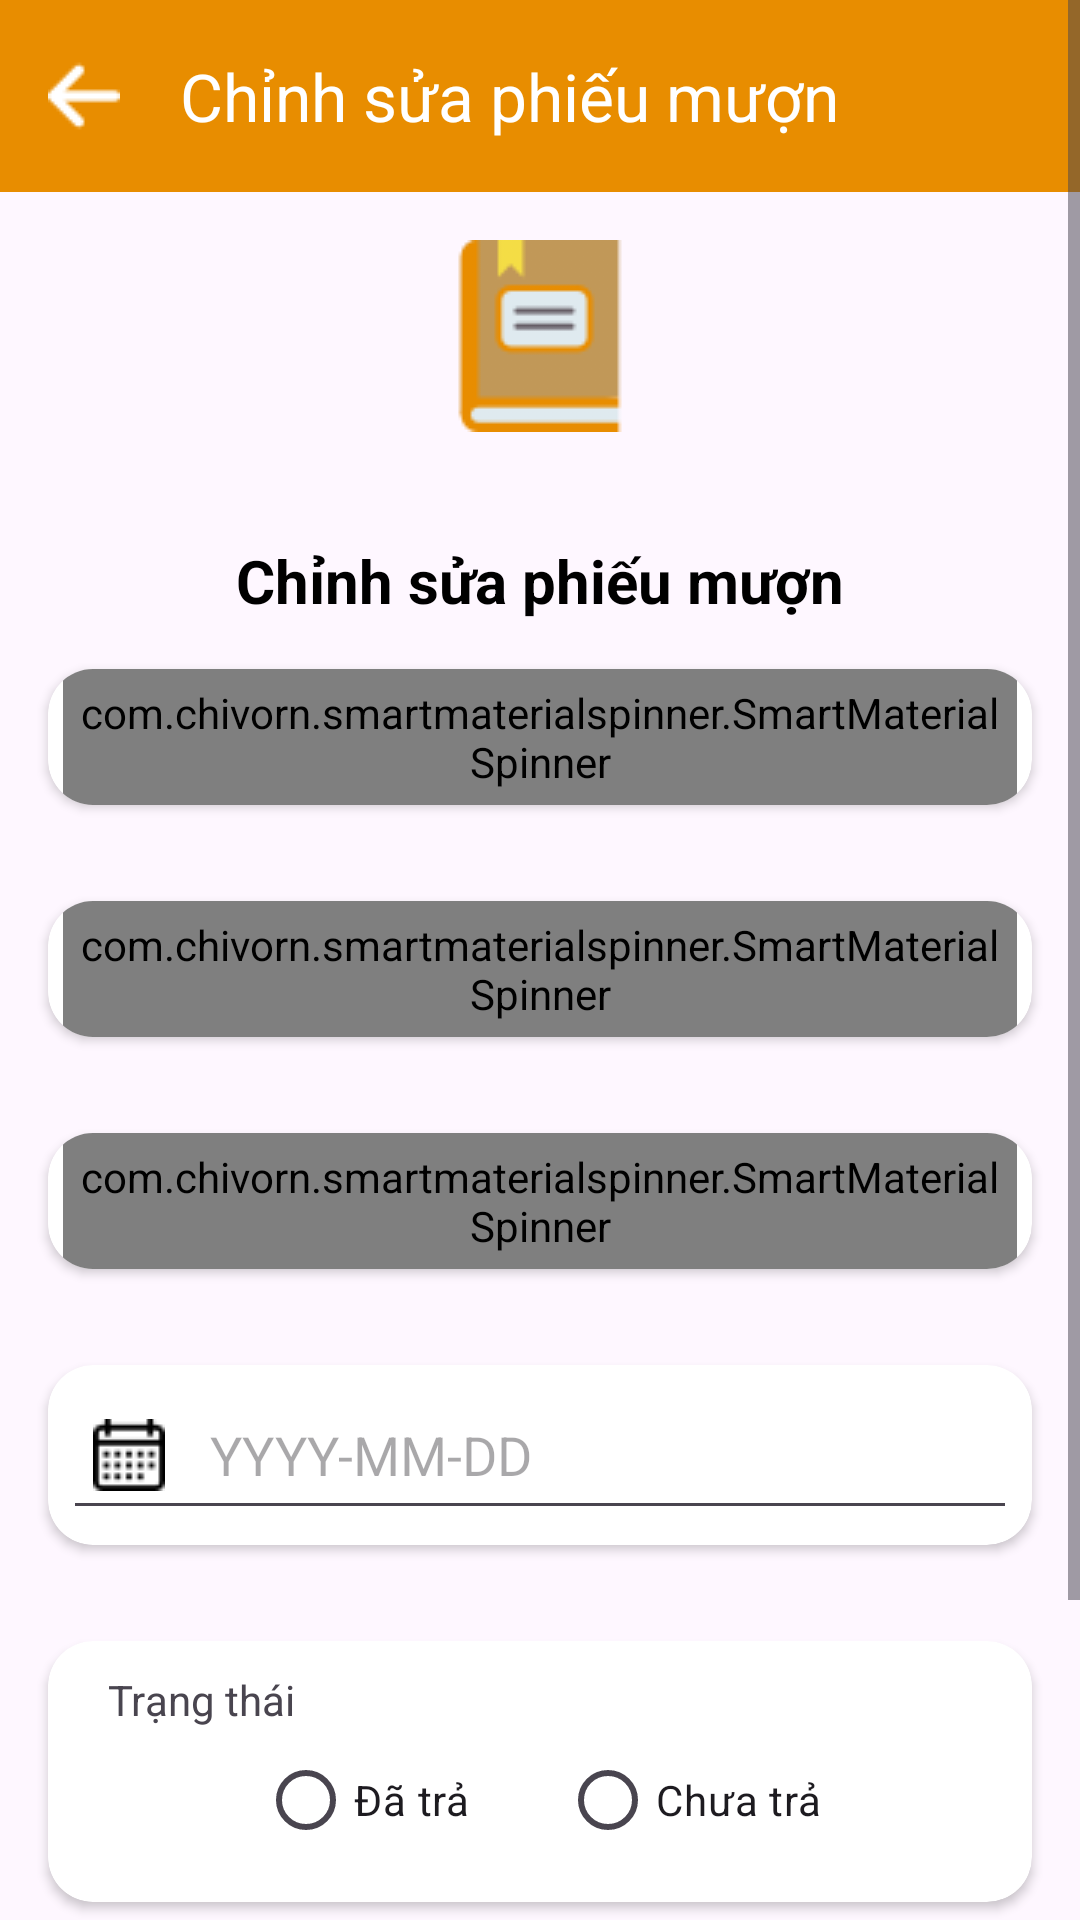

Icon click points for this 1080w x 1920h phone screenshot, format point (x, y):
book bill: point (539, 336)
